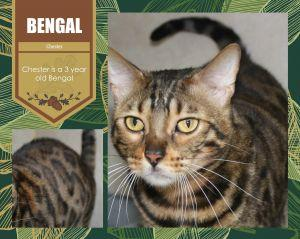bengal: (110, 48, 246, 193)
